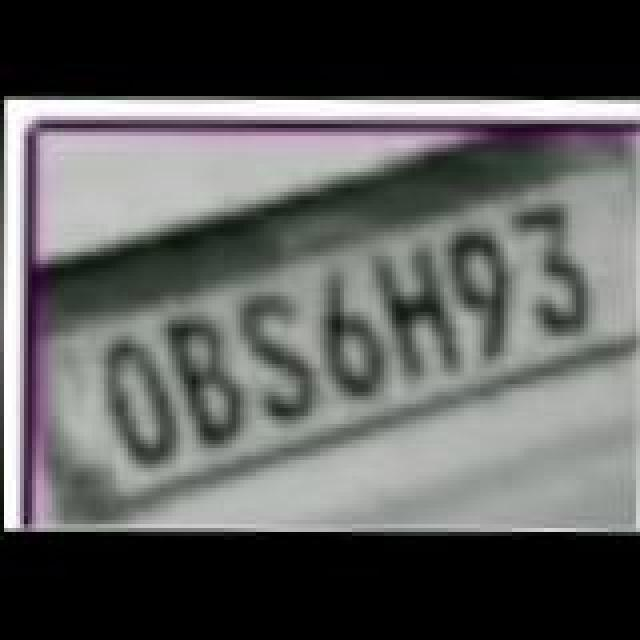3: (512, 212, 596, 344)
6: (316, 280, 392, 400)
9: (448, 232, 524, 360)
B: (164, 318, 252, 450)
H: (372, 252, 464, 384)
O: (102, 336, 186, 468)
S: (240, 300, 324, 428)
